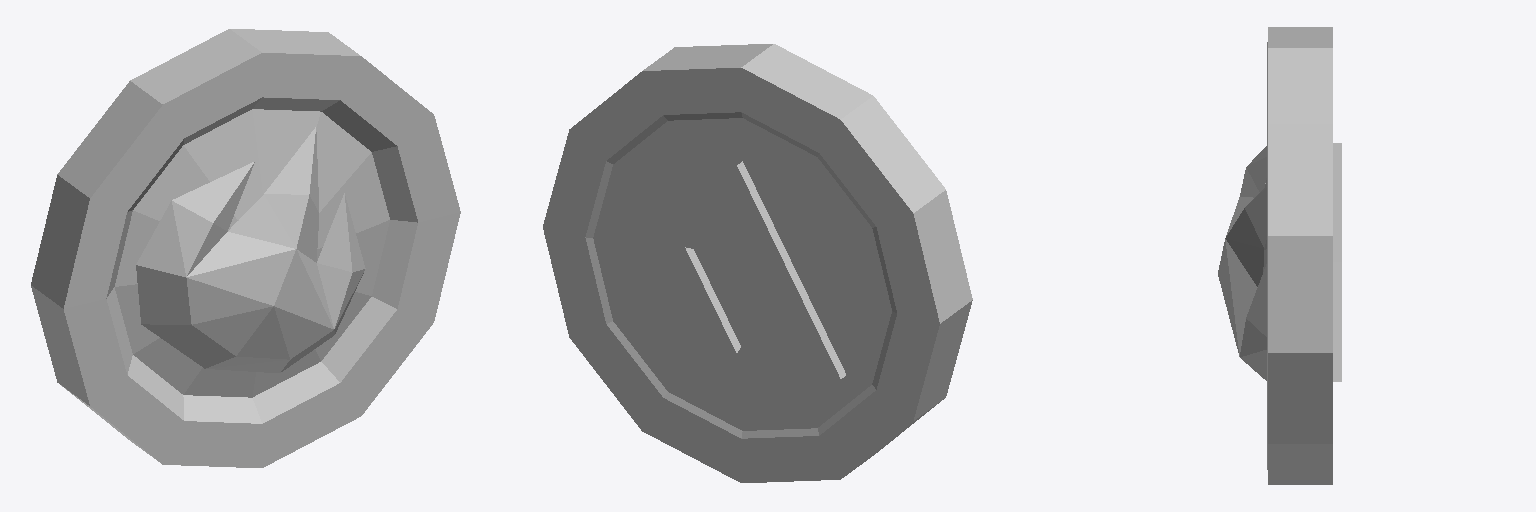
The model's file is Fire Medallion.obj.
3 renders of one model, left to right at view 1: azimuth 30°, elevation 25°; view 2: azimuth 150°, elevation 25°; view 3: azimuth 270°, elevation 25°, orthographic.
Parts seen in each view (by area): view 1: firemedal_geom-0261F82A; view 2: firemedal_geom-0261F82A; view 3: firemedal_geom-0261F82A.
Boxes of the visible parts, x1=… form: firemedal_geom-0261F82A: x1=31, y1=29, x2=460, y2=467; firemedal_geom-0261F82A: x1=543, y1=44, x2=972, y2=482; firemedal_geom-0261F82A: x1=1218, y1=27, x2=1341, y2=484.
Size of the model in its own units: 0.779 by 0.779 by 0.2115.